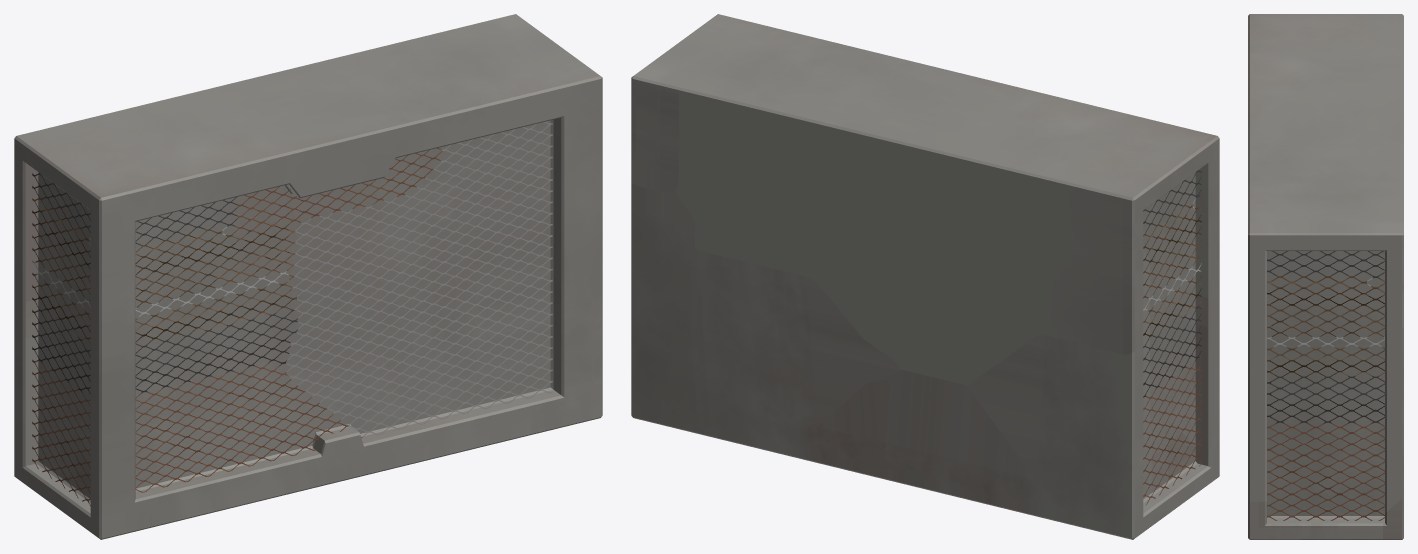
The model's file is outdoor_unit2.fbx.
3 views of the same model, side by side, from view 1: azimuth 30°, elevation 25°; view 2: azimuth 150°, elevation 25°; view 3: azimuth 270°, elevation 25° (orthographic). The views are drawn at different scales.
Visible parts, largest first — view 1: Box176; view 2: Box176; view 3: Box176.
Boxes of the visible parts, <box> form: Box176: <box>14,14,602,539</box>; Box176: <box>631,14,1219,539</box>; Box176: <box>1248,14,1403,539</box>.
Bounding box in the file's own units: 217 × 141 × 64.89.
